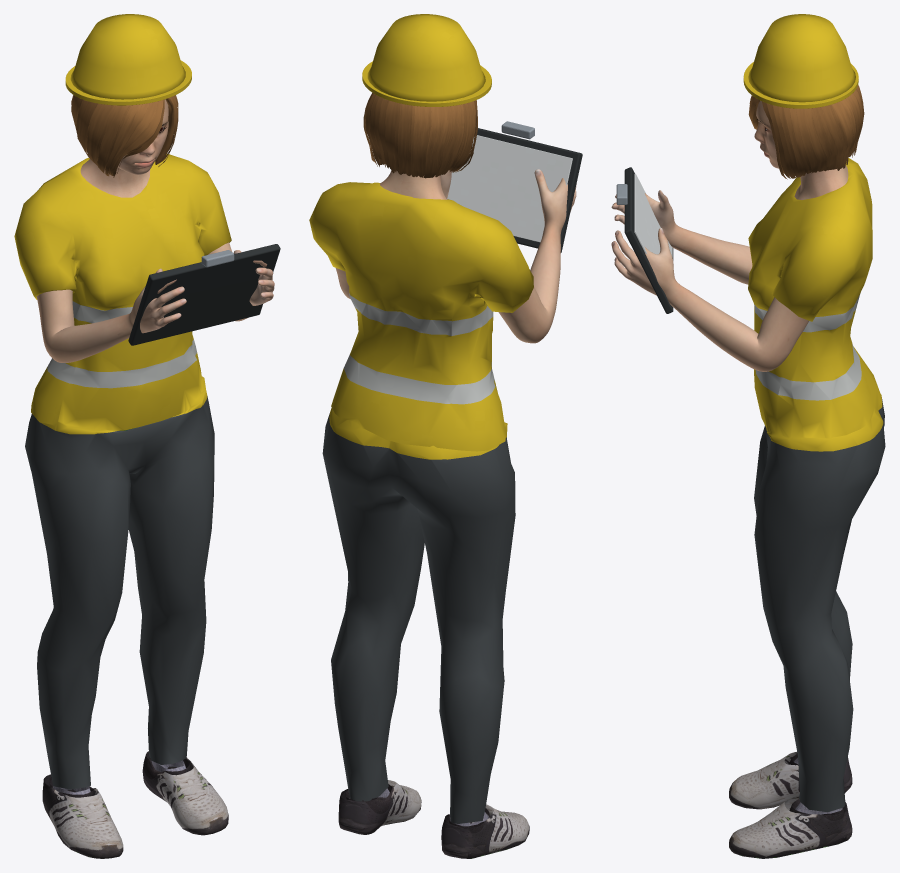
File: deck-crew.glb
The picture shows the model from 3 angles, left to right: view 1: azimuth 30°, elevation 25°; view 2: azimuth 150°, elevation 25°; view 3: azimuth 270°, elevation 25°; orthographic projection. The views are drawn at different scales.
Parts seen in each view (by area): view 1: female_casualsuit01, Taylor | anatomical body, shoes05, Worker | original hardhat shell, Tablet case, bob02, Worker | integral hardhat brim; view 2: female_casualsuit01, Worker | original hardhat shell, Tablet display, bob02, Taylor | anatomical body, shoes05, Tablet case, Worker | integral hardhat brim; view 3: female_casualsuit01, Taylor | anatomical body, shoes05, Worker | original hardhat shell, bob02, Tablet case, Tablet display, Worker | integral hardhat brim.
Boxes of the visible parts, x1=… form: female_casualsuit01: x1=14, y1=154, x2=231, y2=789; Taylor | anatomical body: x1=36, y1=99, x2=274, y2=362; shoes05: x1=42, y1=751, x2=228, y2=858; Worker | original hardhat shell: x1=70, y1=14, x2=185, y2=99; Tablet case: x1=128, y1=244, x2=280, y2=345; bob02: x1=71, y1=95, x2=178, y2=177; Worker | integral hardhat brim: x1=65, y1=60, x2=191, y2=105; female_casualsuit01: x1=309, y1=182, x2=533, y2=823; Worker | original hardhat shell: x1=367, y1=14, x2=485, y2=101; Tablet display: x1=447, y1=135, x2=572, y2=242; bob02: x1=363, y1=93, x2=477, y2=178; Taylor | anatomical body: x1=335, y1=169, x2=576, y2=343; shoes05: x1=338, y1=780, x2=529, y2=858; Tablet case: x1=477, y1=128, x2=582, y2=252; Worker | integral hardhat brim: x1=362, y1=61, x2=491, y2=106; female_casualsuit01: x1=748, y1=158, x2=885, y2=812; Taylor | anatomical body: x1=611, y1=101, x2=848, y2=371; shoes05: x1=729, y1=752, x2=852, y2=858; Worker | original hardhat shell: x1=748, y1=14, x2=855, y2=102; bob02: x1=748, y1=85, x2=864, y2=179; Tablet case: x1=624, y1=167, x2=673, y2=313; Tablet display: x1=634, y1=173, x2=672, y2=257; Worker | integral hardhat brim: x1=743, y1=62, x2=858, y2=108.
Size of the model in its own units: 0.4618 by 1.77 by 0.5461.
Materials: 14 (14 with a texture image).
